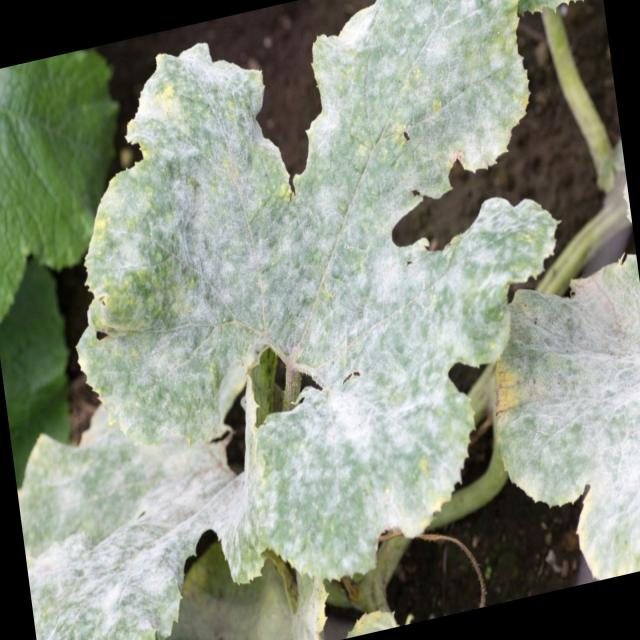Powdery Mildew: (55, 55, 625, 585)
